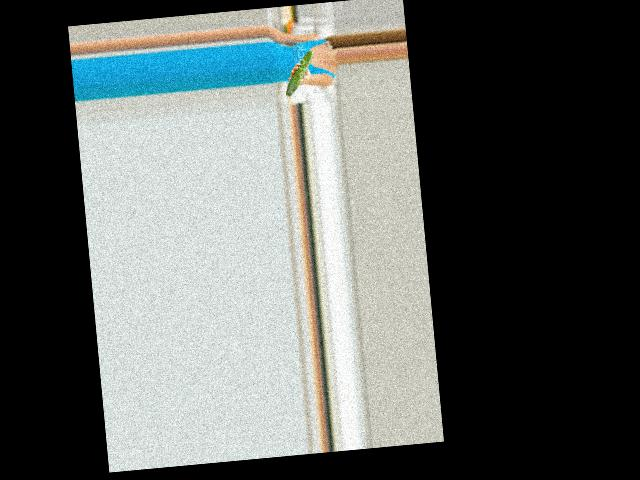cucumber: (281, 50, 316, 96)
